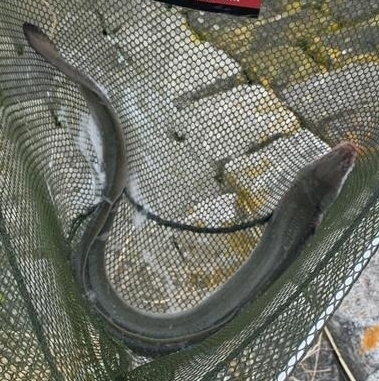Anguilla anguilla: (20, 20, 359, 361)
